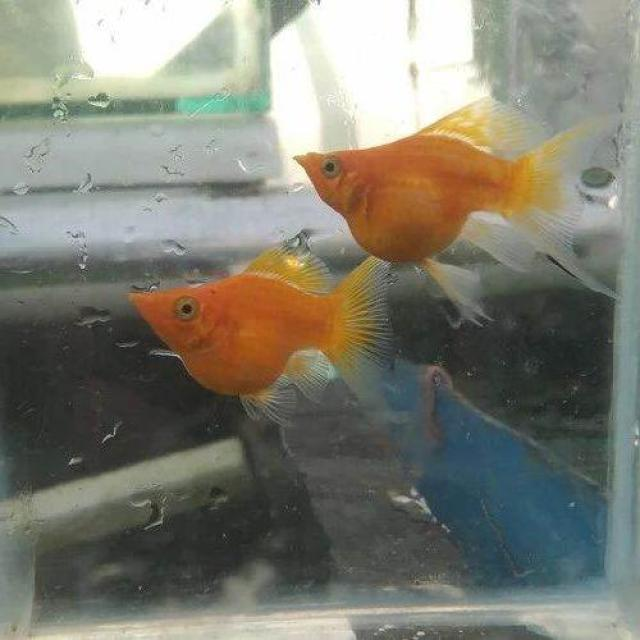PlatyFish: (290, 92, 600, 274), (117, 238, 399, 422)
